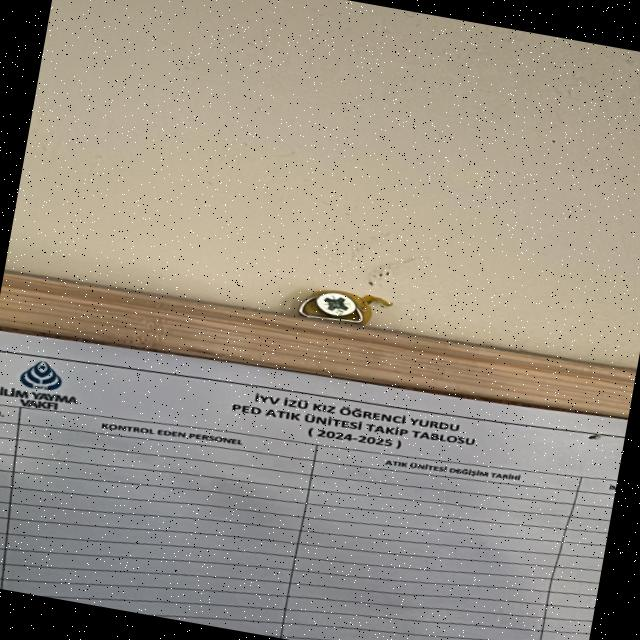Pozidriv: (301, 288, 374, 332)
